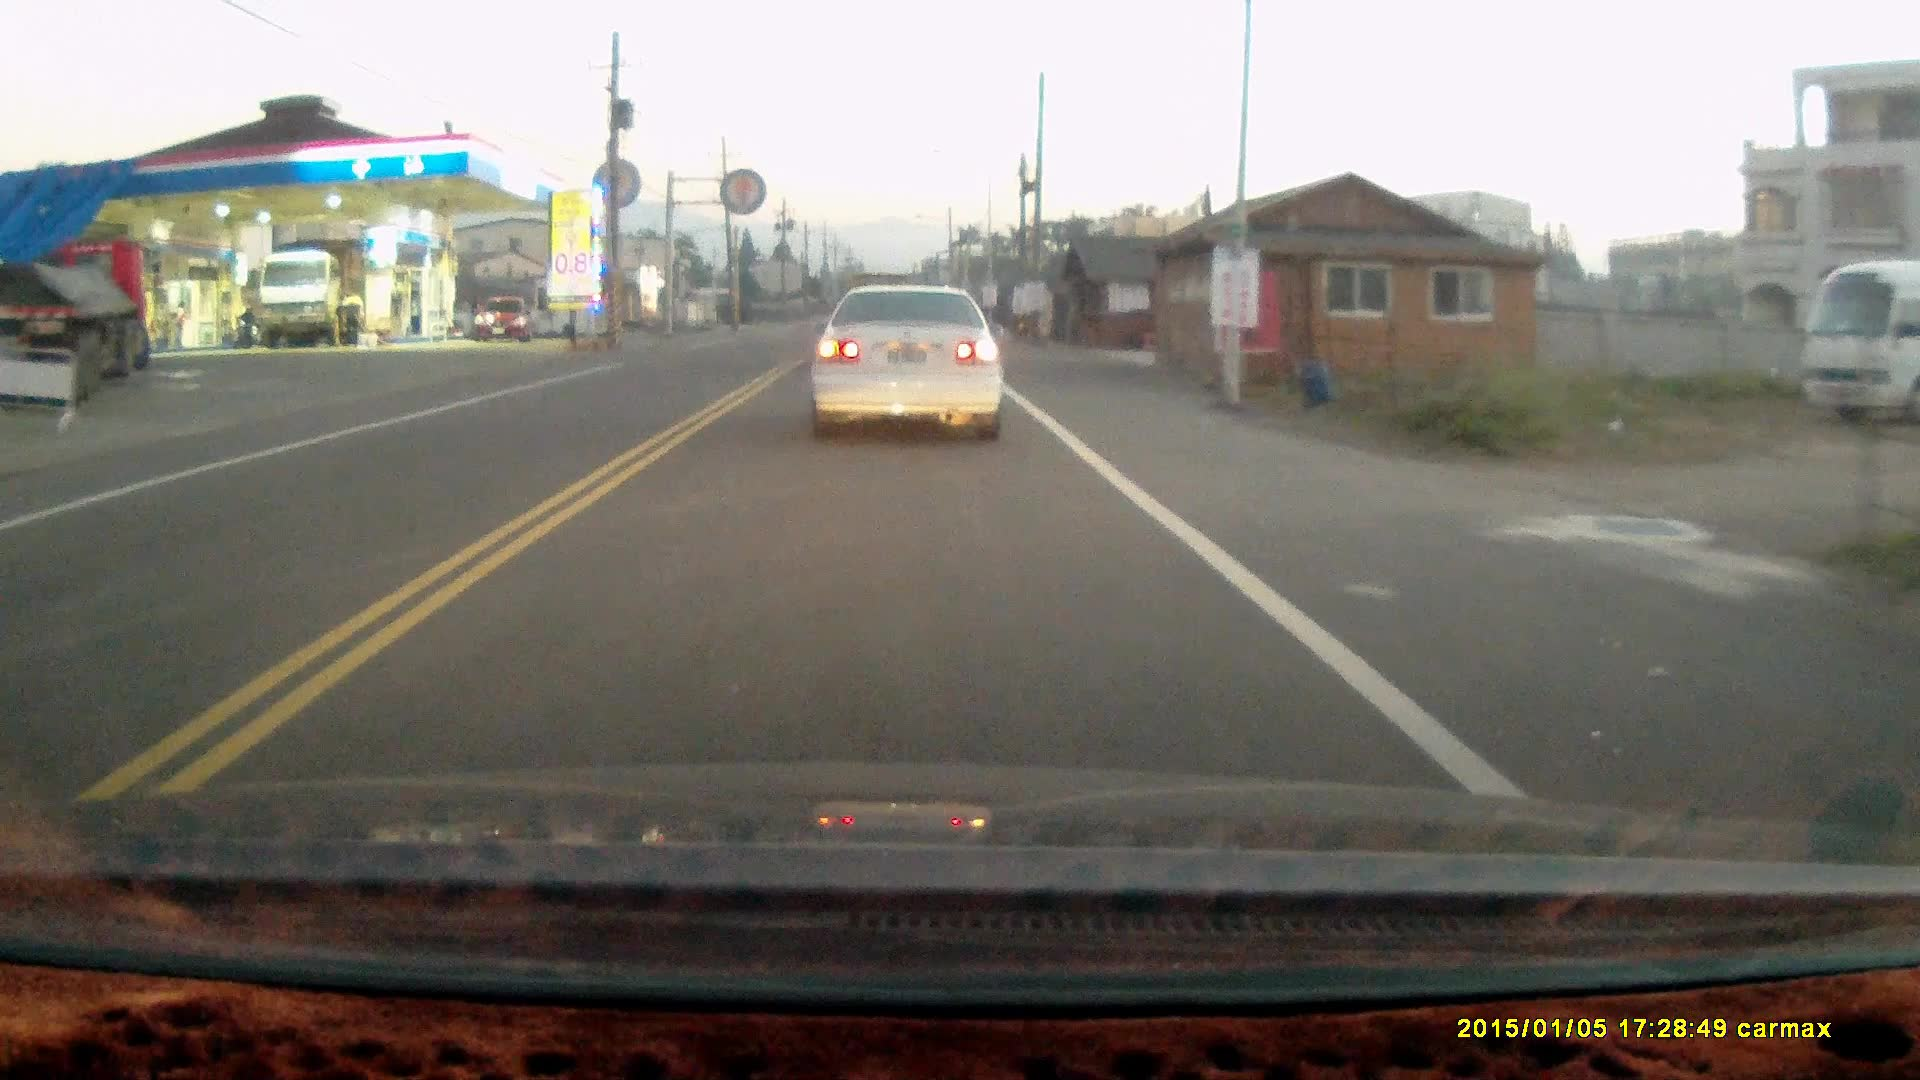pedestrian: (334, 285, 366, 340)
vehicle: (806, 276, 1007, 440), (11, 227, 153, 403), (257, 246, 365, 349), (476, 296, 531, 342)
